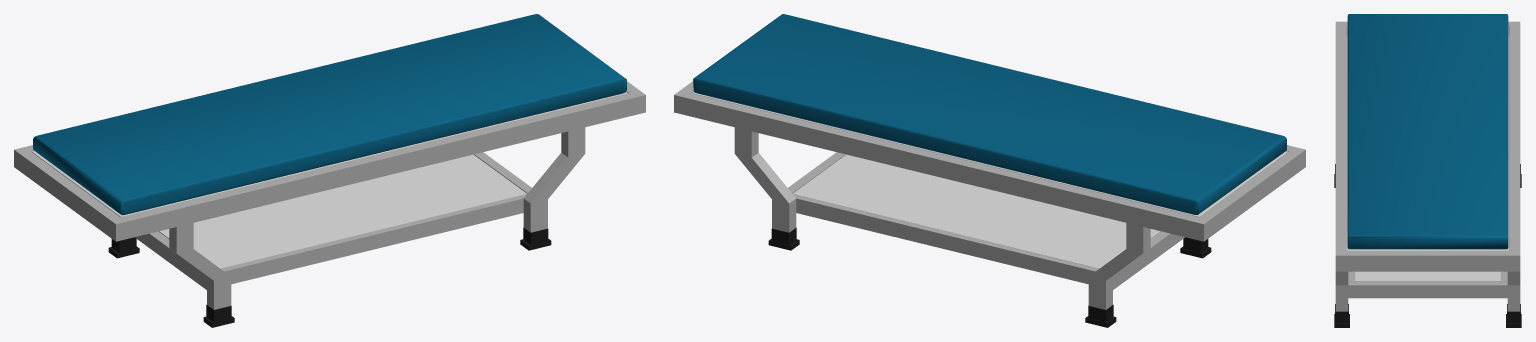
File: Attender_cot_deluxe1-optimized.glb
The picture shows the model from 3 angles, left to right: view 1: azimuth 30°, elevation 25°; view 2: azimuth 150°, elevation 25°; view 3: azimuth 270°, elevation 25°; orthographic projection. The views are drawn at different scales.
Parts seen in each view (by area): view 1: Bed, Cot; view 2: Bed, Cot; view 3: Bed, Cot.
Boxes of the visible parts, x1,y1,x2,y2 form: Bed: (33, 14, 626, 215); Cot: (14, 81, 645, 327); Bed: (693, 14, 1286, 214); Cot: (674, 81, 1305, 327); Bed: (1347, 14, 1508, 249); Cot: (1334, 21, 1521, 327).
Size of the model in its own units: 3.66 by 0.935 by 1.24.
